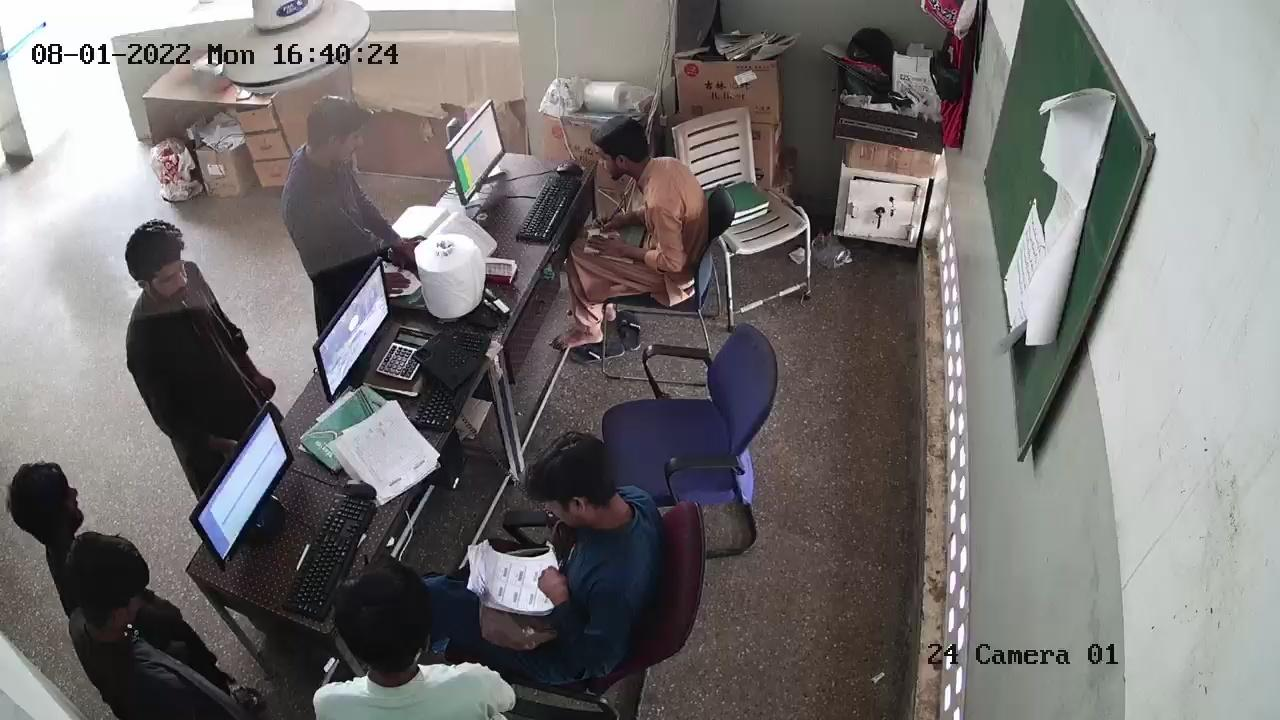person: (489, 428, 671, 692), (327, 560, 492, 720), (67, 535, 210, 710), (121, 225, 240, 427), (577, 133, 719, 295), (304, 93, 366, 297), (11, 468, 102, 568)
